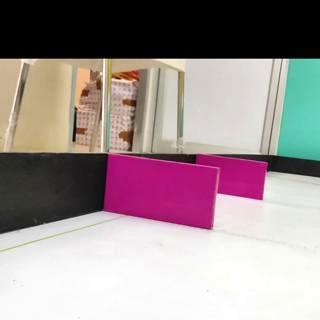xparking: (104, 153, 218, 229), (218, 157, 266, 200)
